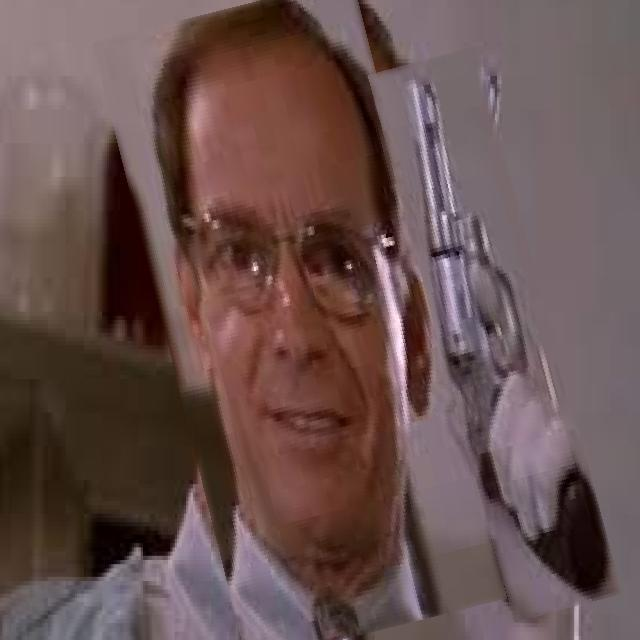Gun_Holder: (397, 79, 640, 561)
Person: (3, 0, 582, 640)
